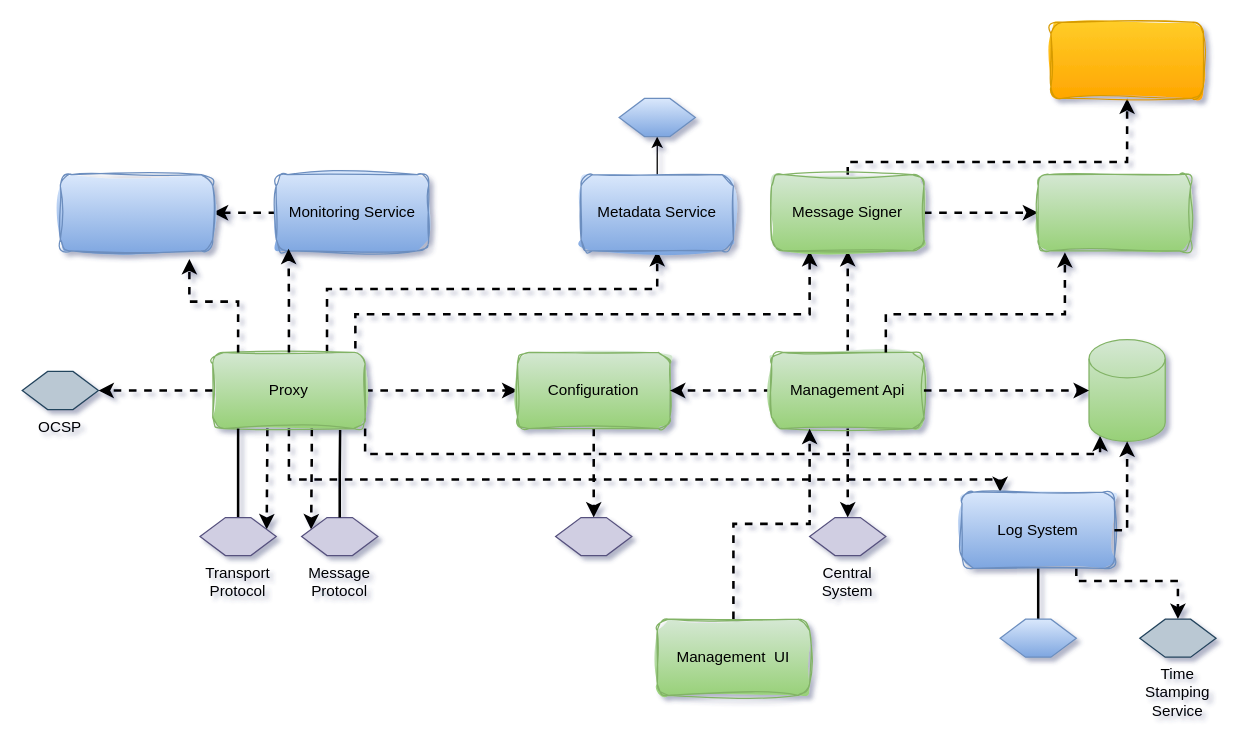
This 1246x751 diagram has some shape labels left out. The centre of each missing label's shape, as x and y in pixels:
"Database" belongs at [1126,389].
"Download Configuration" belongs at [593,536].
"Download Document" belongs at [1037,637].
"Metadata protocol" belongs at [656,117].
"Monitoring UI" belongs at [136,212].
"Password Store" belongs at [1114,212].
"SSCD" belongs at [1126,59].
